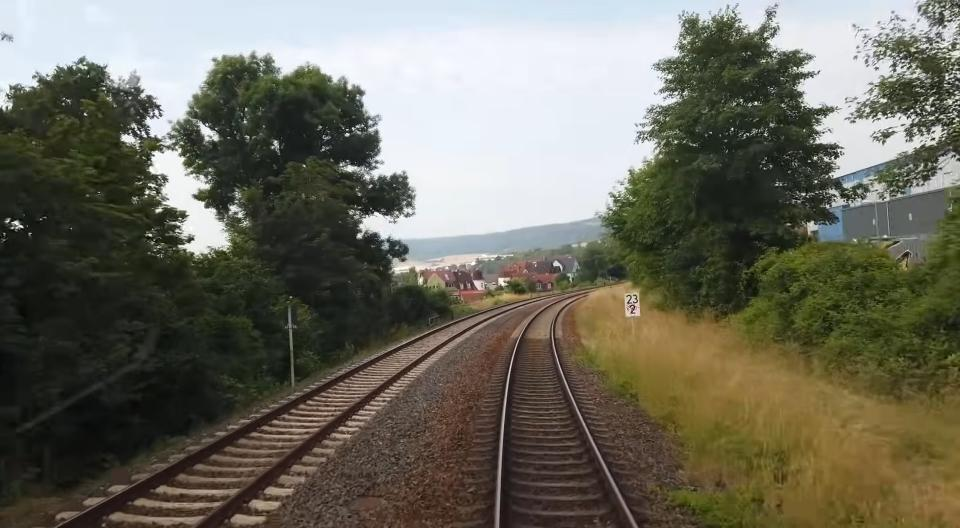Plant: (667, 424, 862, 528), (572, 348, 634, 397)
